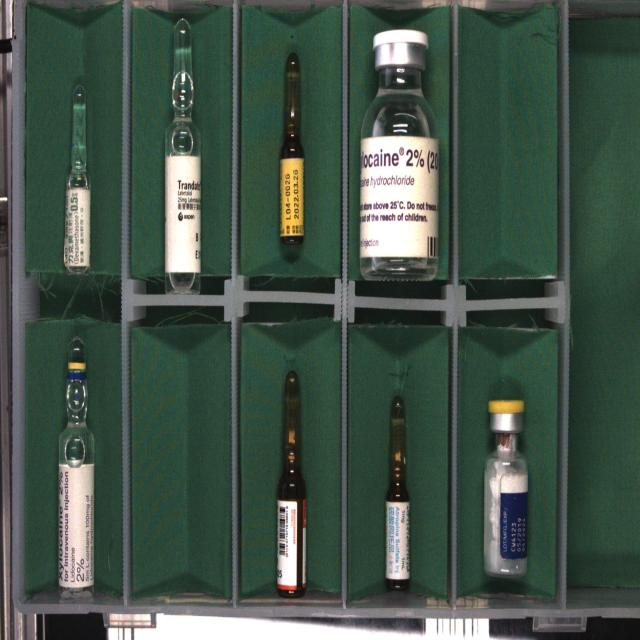Vials: (360, 29, 439, 281), (484, 399, 528, 577)
